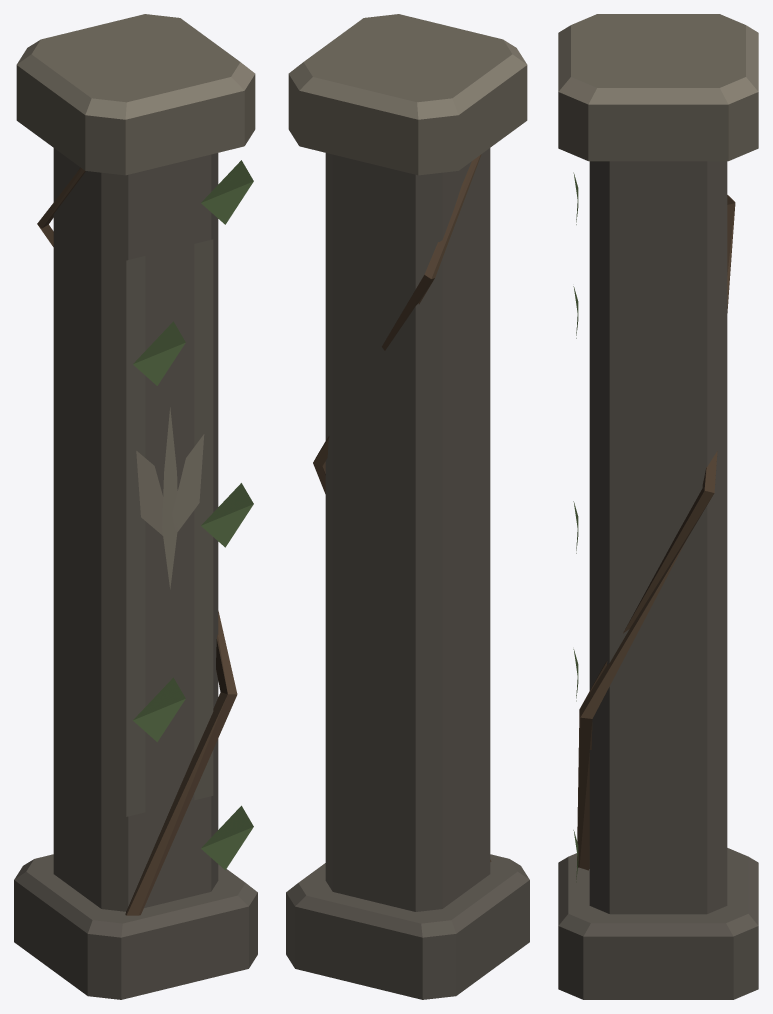
File: pillar_vine_4m.glb
The picture shows the model from 3 angles, left to right: view 1: azimuth 30°, elevation 25°; view 2: azimuth 150°, elevation 25°; view 3: azimuth 270°, elevation 25°; orthographic projection.
Parts seen in each view (by area): view 1: Body_pillar_vine_4m.001; view 2: Body_pillar_vine_4m.001; view 3: Body_pillar_vine_4m.001.
Boxes of the visible parts, bbox=[...] form: Body_pillar_vine_4m.001: bbox=[14, 14, 257, 999]; Body_pillar_vine_4m.001: bbox=[286, 14, 529, 999]; Body_pillar_vine_4m.001: bbox=[558, 14, 758, 999].
Bounding box in the file's own units: 0.8 × 4 × 0.8.
